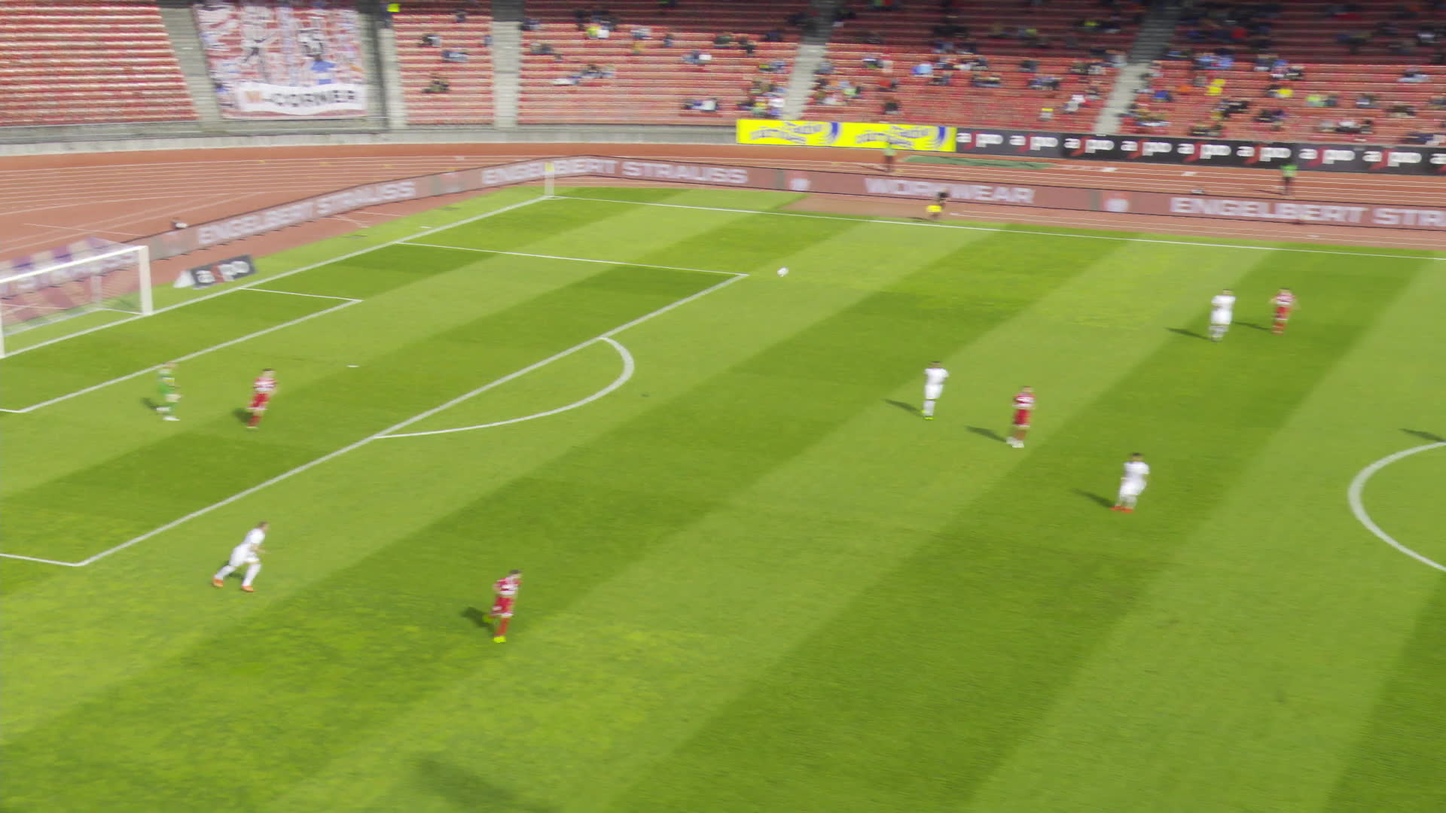ball: (775, 270, 783, 276)
player: (226, 516, 288, 591), (481, 565, 532, 640), (1124, 452, 1167, 519), (242, 365, 282, 430), (1016, 384, 1054, 452), (155, 356, 193, 423), (922, 360, 958, 421), (1221, 285, 1253, 344), (1264, 285, 1301, 335)
referee: (934, 187, 964, 224)
